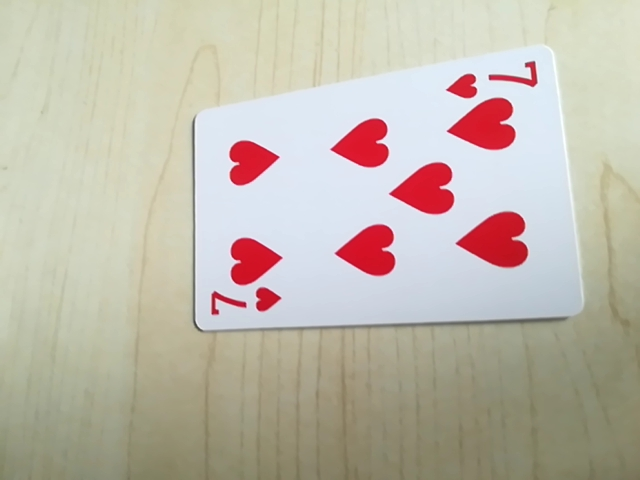hx 7: (442, 55, 547, 99), (203, 287, 285, 328)
